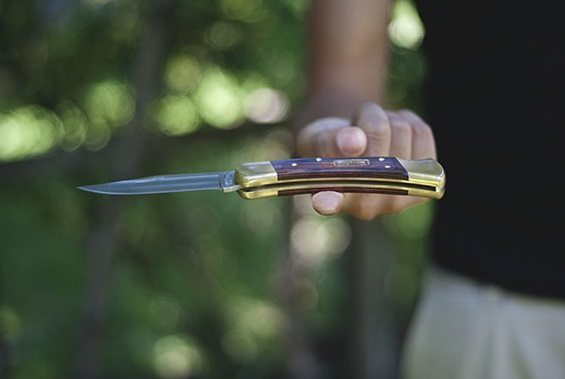knife: (68, 143, 454, 217)
